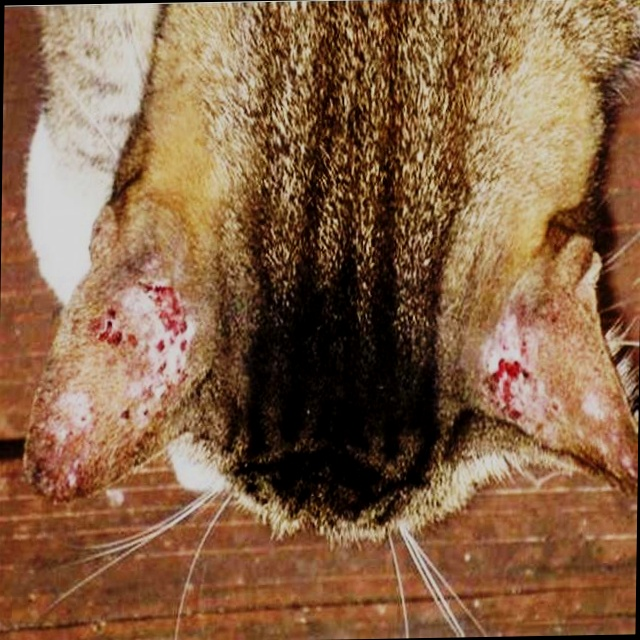ringworm: (86, 276, 208, 445), (477, 329, 601, 453)
